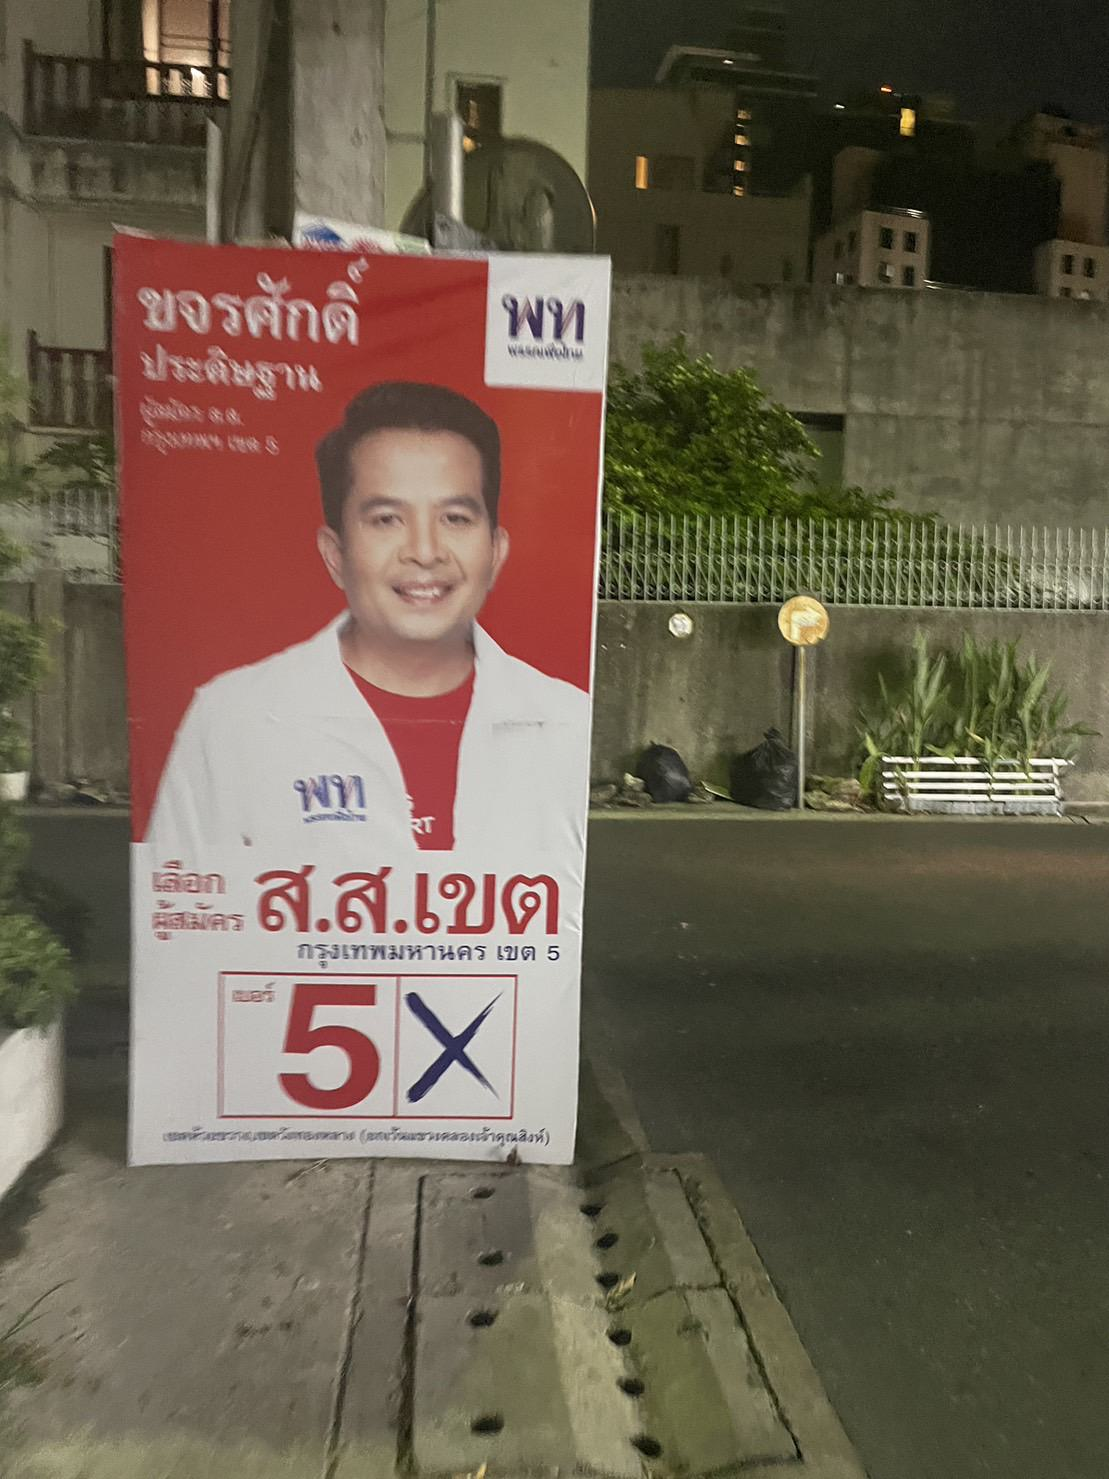Banner: (89, 205, 596, 1168)
